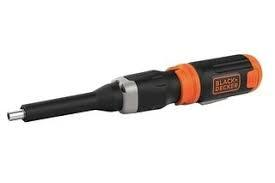screwdriver: (5, 52, 262, 123)
